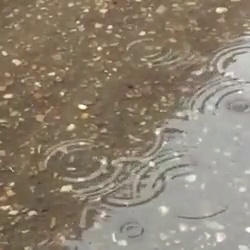drop: (137, 148, 229, 219), (43, 139, 129, 199), (94, 157, 162, 208), (187, 77, 250, 122), (212, 34, 250, 82), (125, 36, 169, 64), (119, 220, 144, 239)
